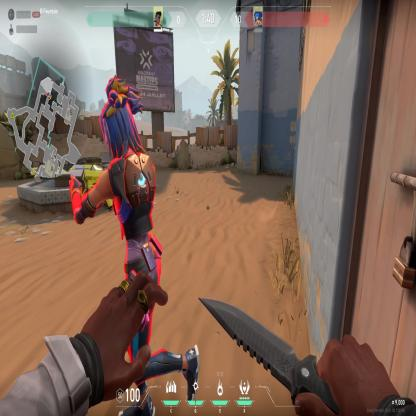enemy: (67, 73, 165, 271)
